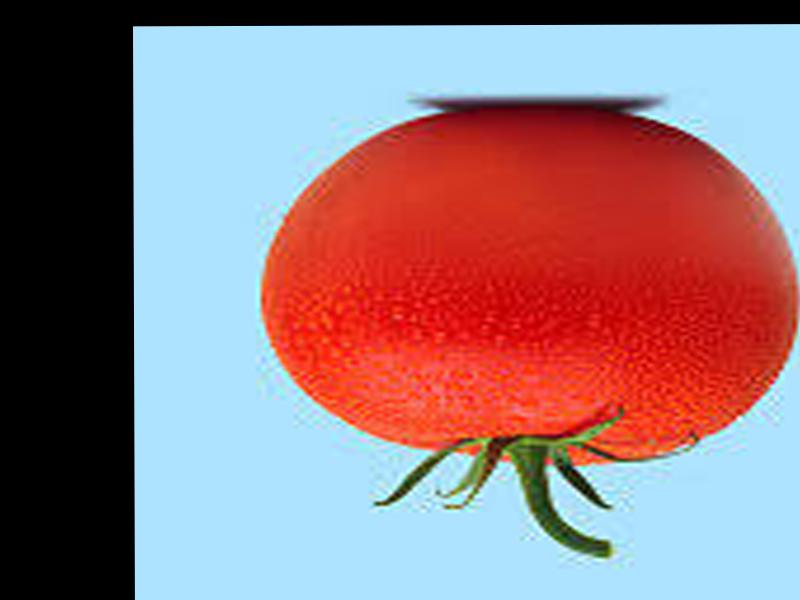Tomato: (259, 111, 797, 463)
